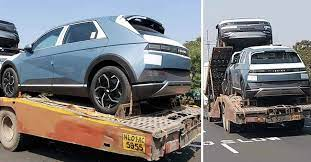Honda Ioniq: (1, 12, 195, 122)
